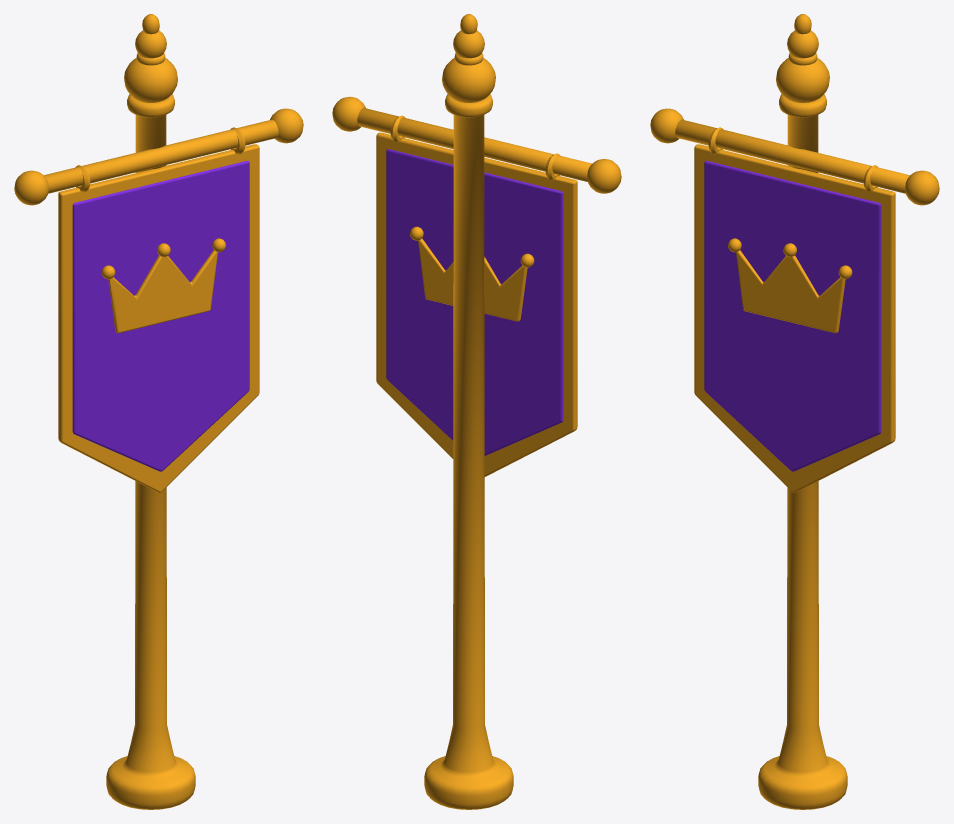
The model's file is banner_pole.glb.
The picture shows the model from 3 angles, left to right: view 1: azimuth 30°, elevation 25°; view 2: azimuth 150°, elevation 25°; view 3: azimuth 330°, elevation 25°; orthographic projection.
Parts seen in each view (by area): view 1: banner_pole; view 2: banner_pole; view 3: banner_pole.
Boxes of the visible parts, left/top/right/bottom form: banner_pole: left=14, top=14, right=303, bottom=809; banner_pole: left=332, top=14, right=621, bottom=809; banner_pole: left=650, top=14, right=939, bottom=809.
Bounding box in the file's own units: 1.03 × 2.69 × 0.28.
